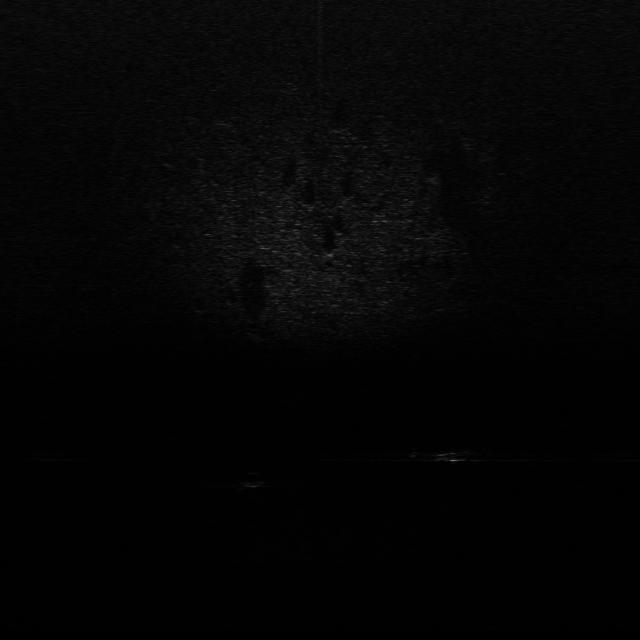ball: (240, 468, 268, 490)
human body: (402, 444, 484, 466)
